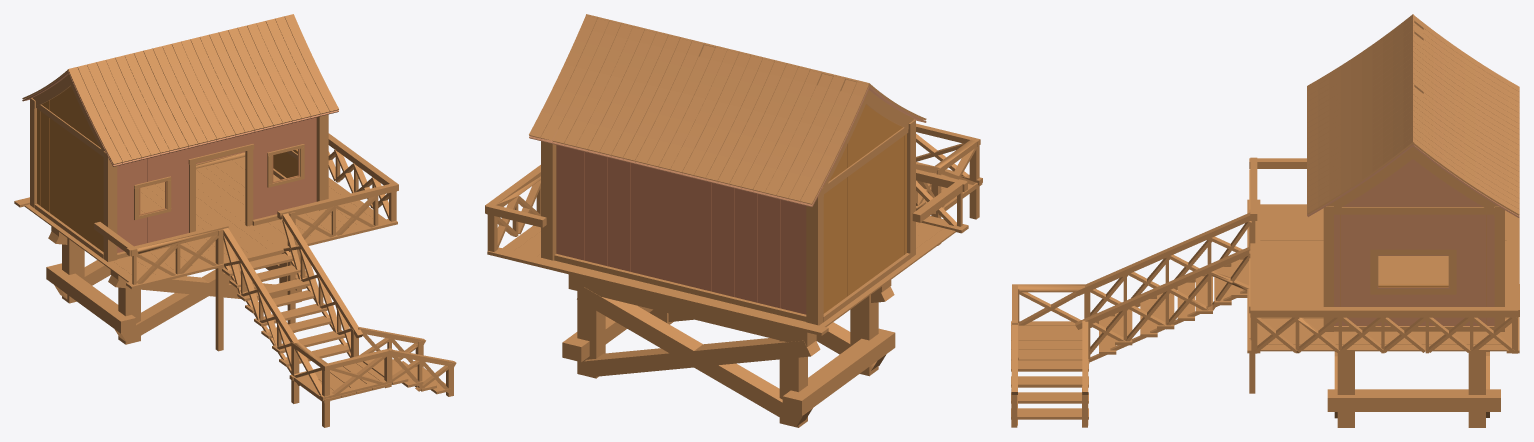
The model's file is Cottage.dae.
The picture shows the model from 3 angles, left to right: view 1: azimuth 30°, elevation 25°; view 2: azimuth 150°, elevation 25°; view 3: azimuth 270°, elevation 25°; orthographic projection. The views are drawn at different scales.
Visible parts, largest first — view 1: SM_Cottage_001; view 2: SM_Cottage_001; view 3: SM_Cottage_001.
Part boxes in pixels (x1,y1,x2,y2): SM_Cottage_001: (14,14,456,427); SM_Cottage_001: (485,14,982,427); SM_Cottage_001: (1011,14,1519,427).
Bounding box in the file's own units: 16.81 × 23.67 × 15.39.
